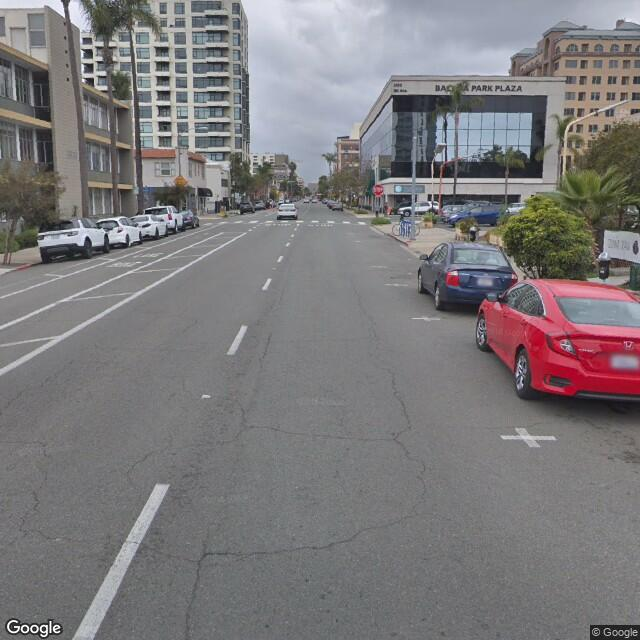road line: (84, 474, 173, 640), (225, 232, 300, 371), (32, 270, 161, 334)
window: (502, 121, 527, 154), (82, 95, 105, 127)
